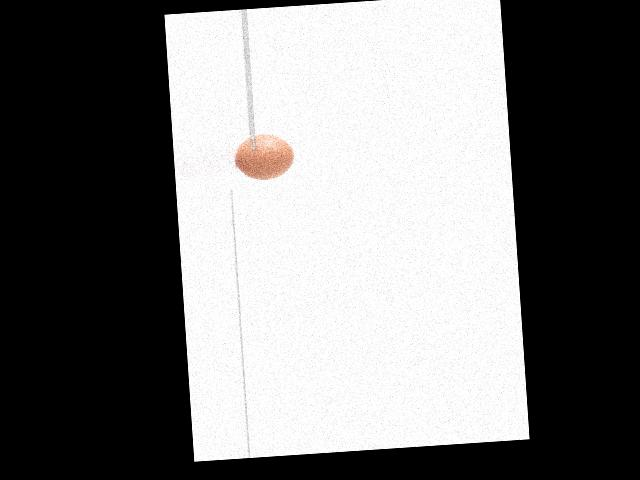egg: (235, 131, 295, 181)
